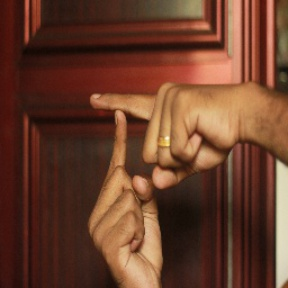T: (71, 79, 192, 221)
